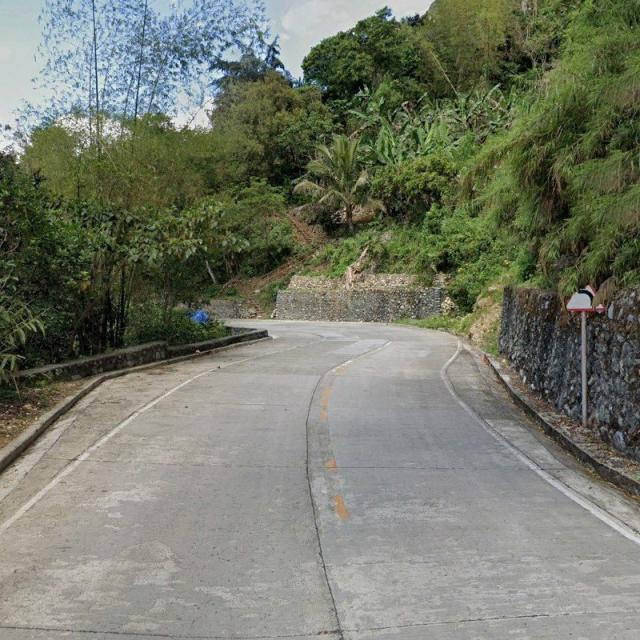warn_left_curve: (561, 265, 607, 312)
